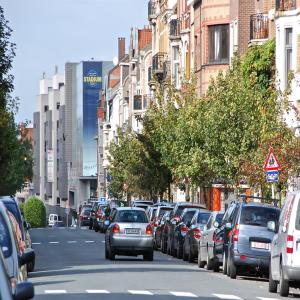Vehicle-registration-plate: (253, 243, 270, 251), (127, 229, 141, 236)
